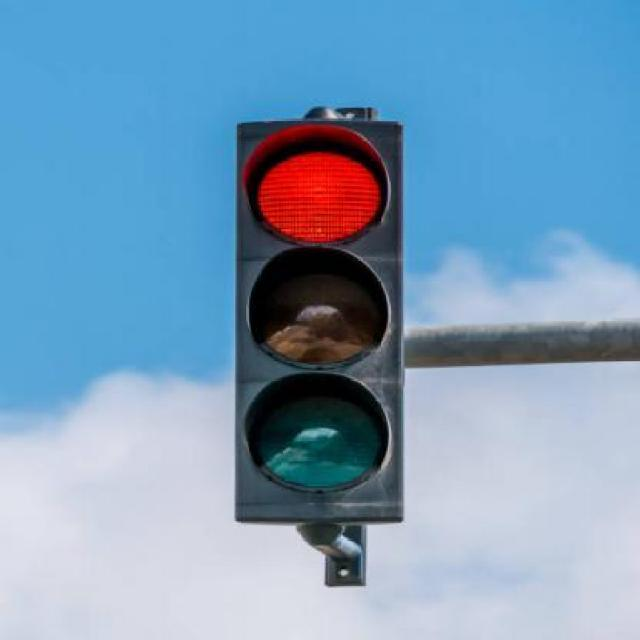traffic light: (233, 119, 406, 525), (296, 523, 367, 588)
